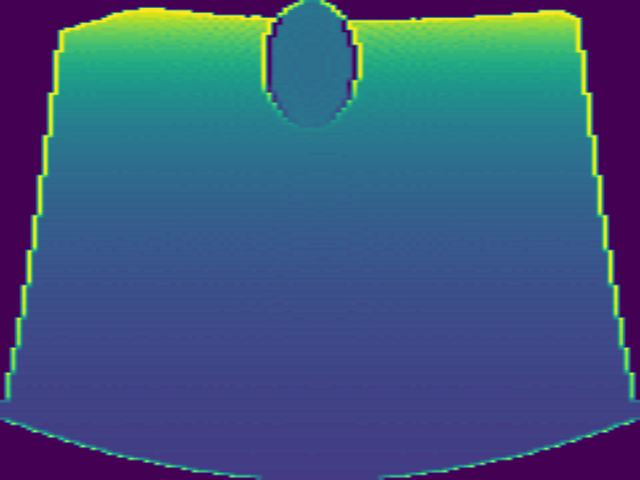sphere: (260, 1, 361, 130)
